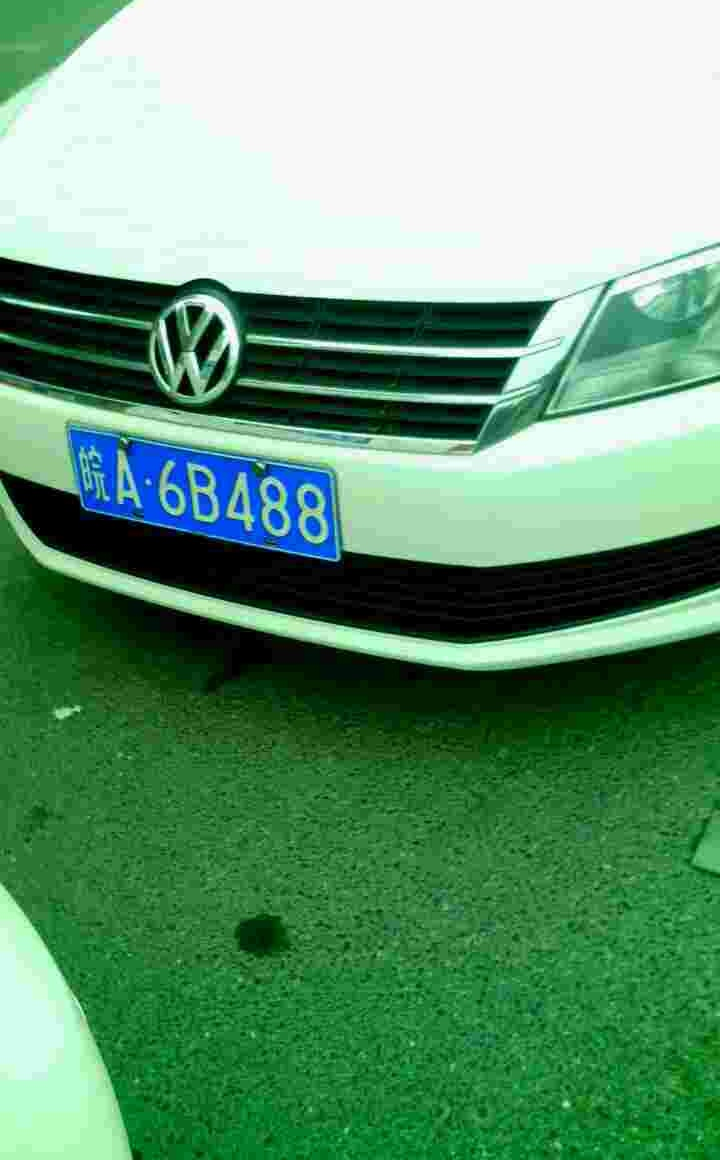license_plate: (71, 422, 343, 569)
